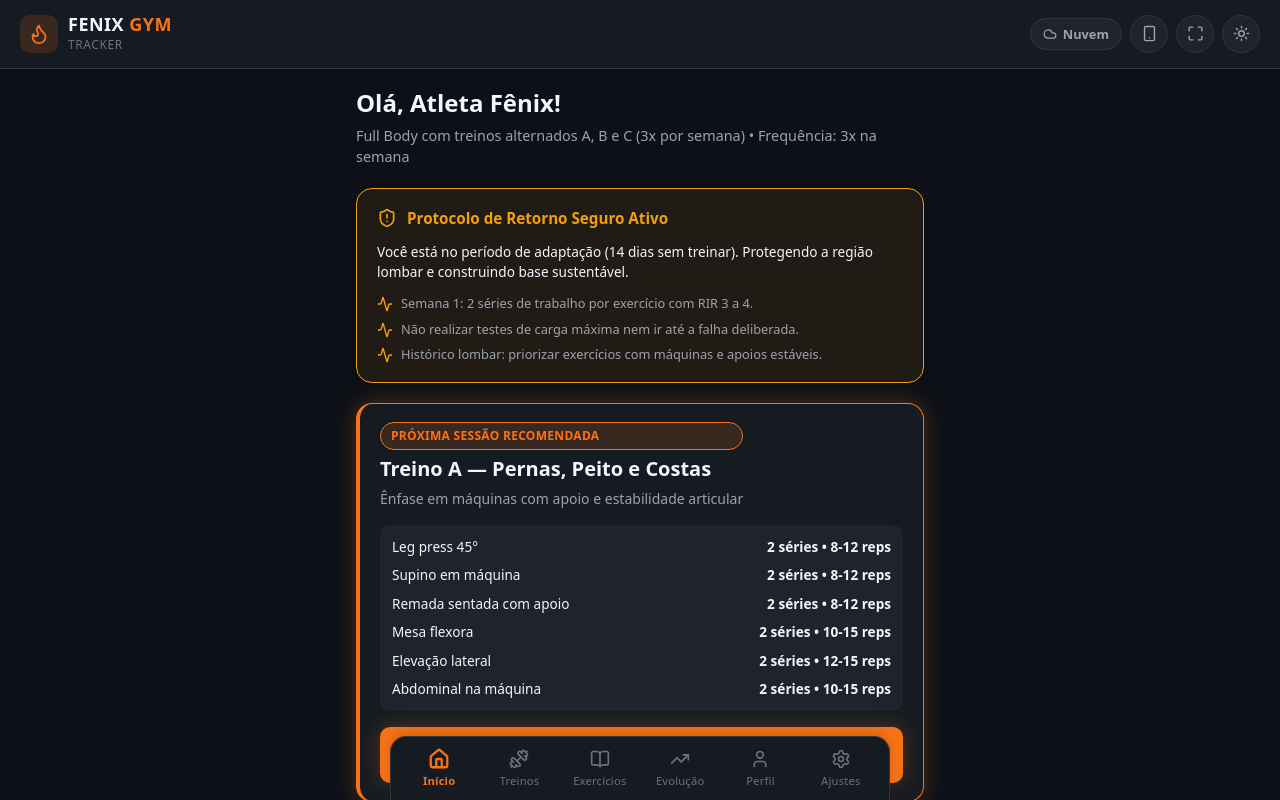
Test: App Integration › navega entre as abas de Treinos, Exercícios e Configurações corretamente
// Navega para Treinos
What coordinates should you click on to do the following:
click the tab "Treinos"
I would click on:
 (519, 768)
Its box is [479,743,560,794].
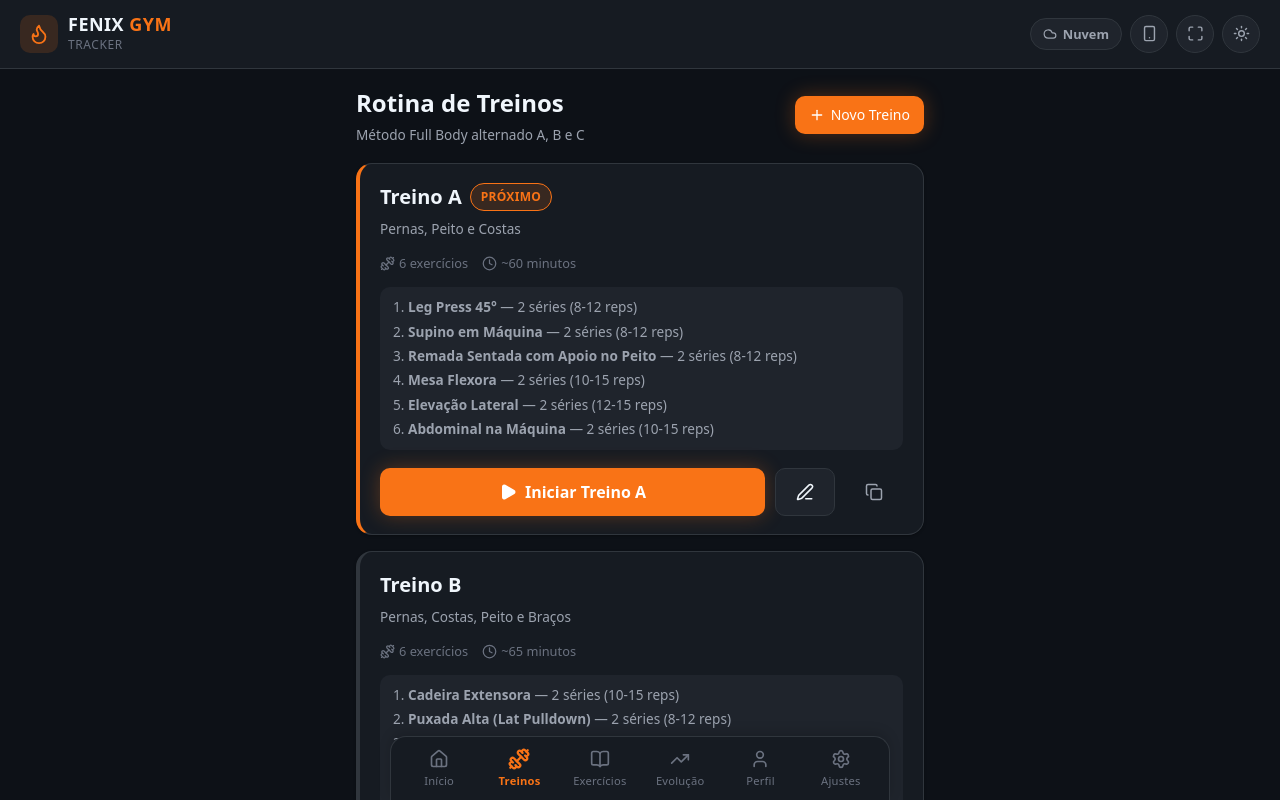
Check: the heading "Treino A" is shown, box [380,182,462,212]
Check: the heading "Rotina de Treinos" is shown, box [356,85,585,121]
Check: the heading "Treino B" is shown, box [380,570,461,600]
// Navega para Exercícios
What coordinates should you click on to do the following:
click the tab "Exercícios"
I would click on:
 (600, 768)
Its box is [560,743,640,794].
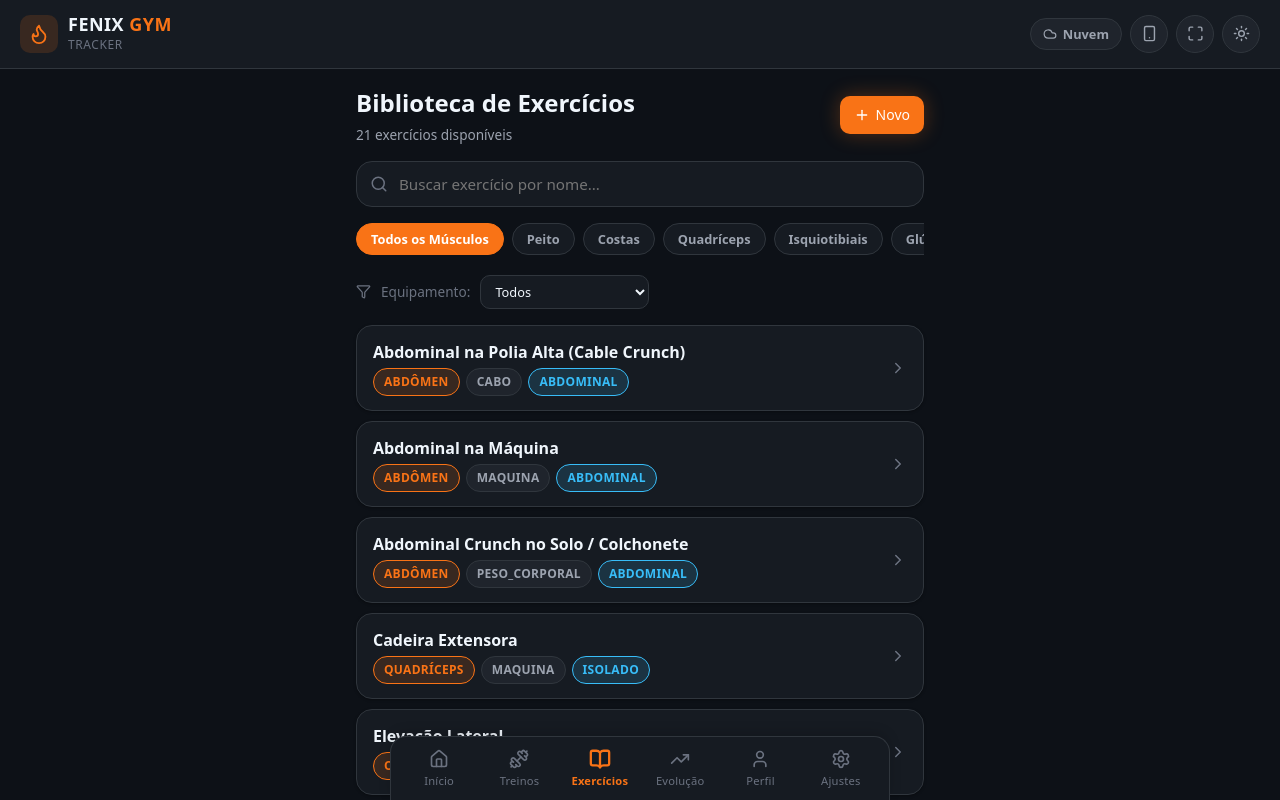
Check: the heading "Biblioteca de Exercícios" is shown, box [356,85,635,121]
// Navega para Perfil
What coordinates should you click on to do the following:
click the tab "Perfil"
I would click on:
 (760, 768)
Its box is [720,743,801,794].
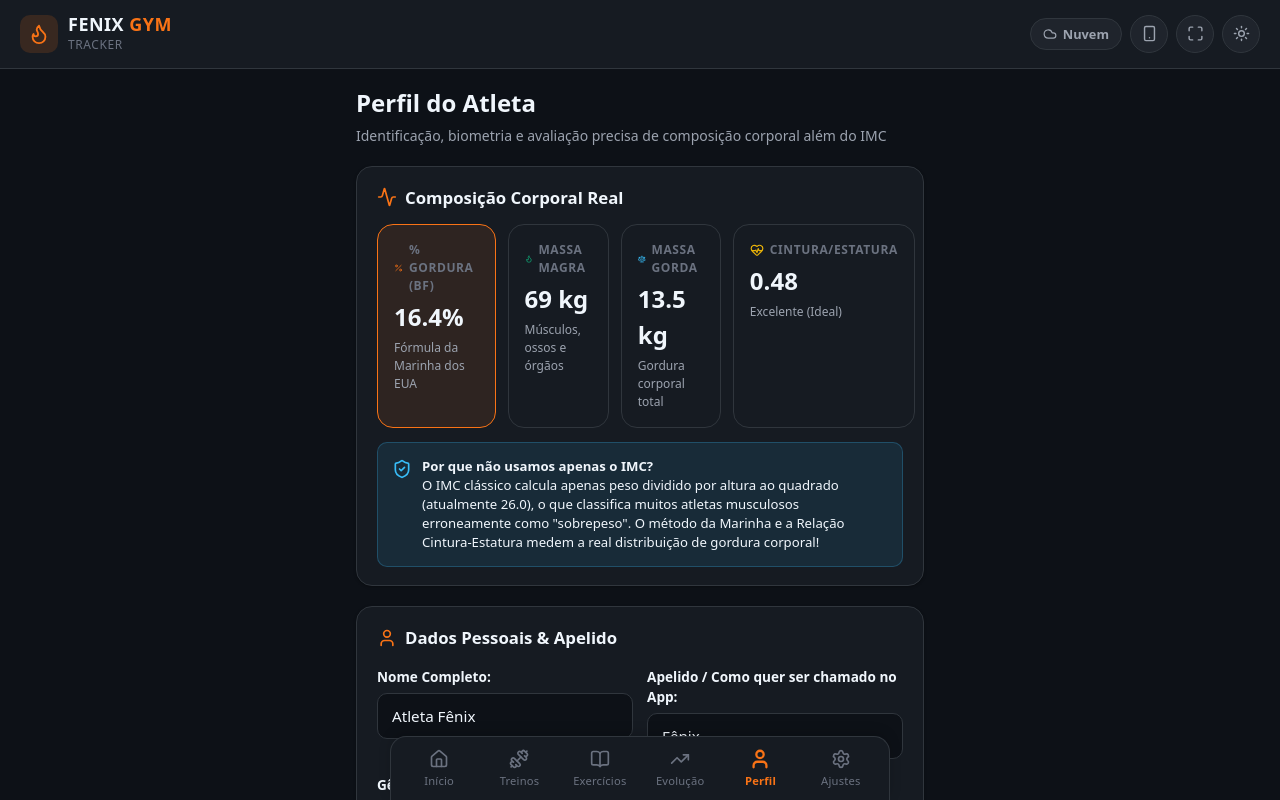
Check: the heading "Perfil do Atleta" is shown, box [356,86,536,119]
Check: the heading "Composição Corporal Real" is shown, box [377,186,623,209]
// Navega para Ajustes
What coordinates should you click on to do the following:
click the tab "Ajustes"
I would click on:
 (841, 768)
Its box is [801,743,881,794].
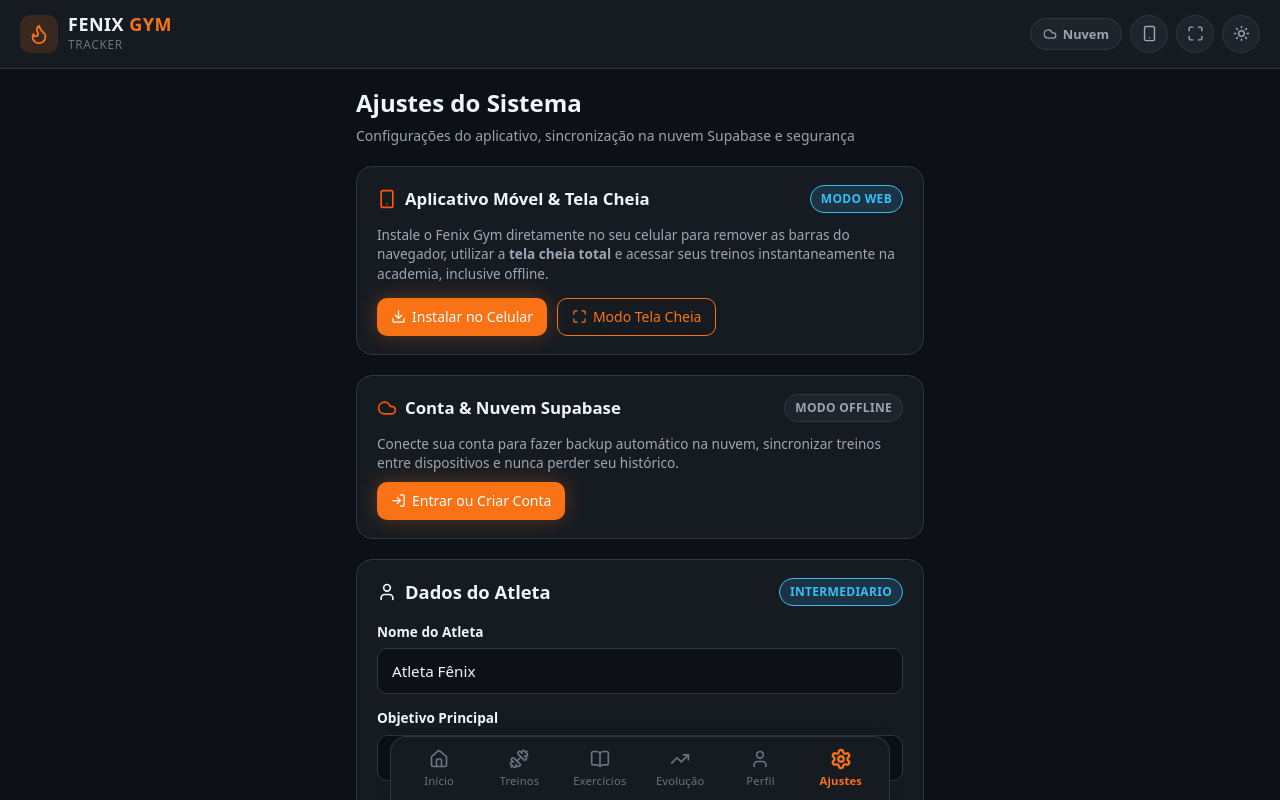
Check: the heading "Ajustes do Sistema" is shown, box [356,86,582,119]
Check: the field labelled "Nome do Atleta" is shown, box [377,648,903,694]
// Navega para Evolução
What coordinates should you click on to do the following:
click the tab "Evolução"
I would click on:
 (680, 768)
Its box is [640,743,720,794].
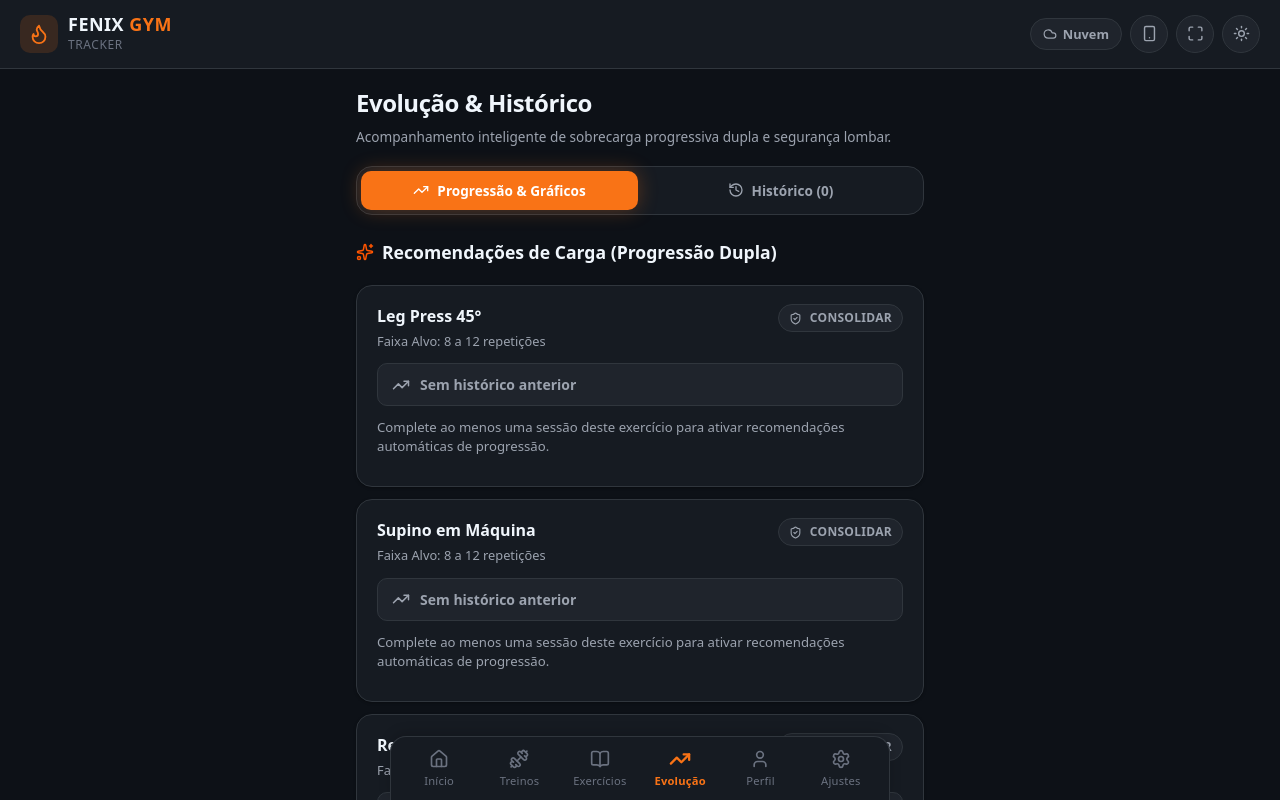
Check: the heading "Evolução & Histórico" is shown, box [356,86,592,119]
Check: the heading "Recomendações de Carga (Progressão Dupla)" is shown, box [356,239,777,265]
// Volta para o Início
What coordinates should you click on to do the following:
click the tab "Início"
I would click on:
 (439, 768)
Its box is [399,743,479,794].
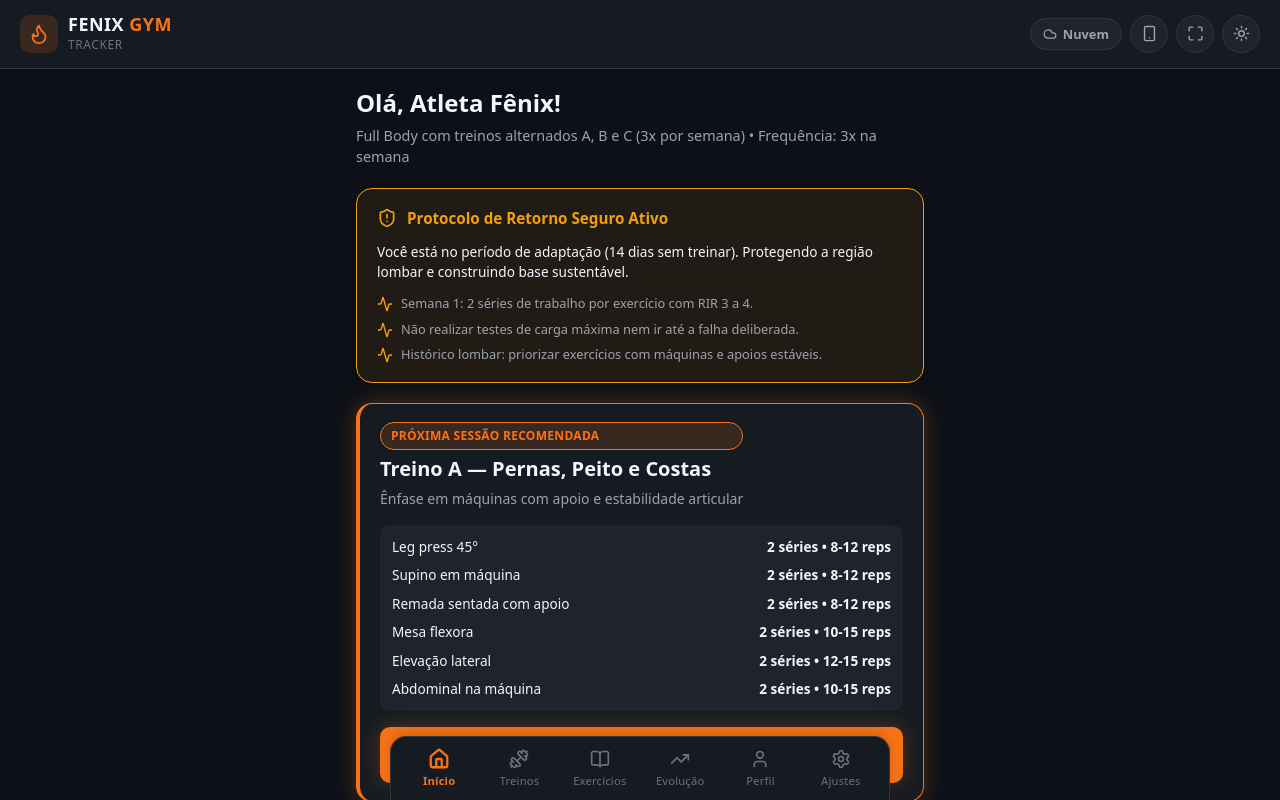
Check: the heading "Olá, Atleta Fênix!" is shown, box [356,86,561,119]
